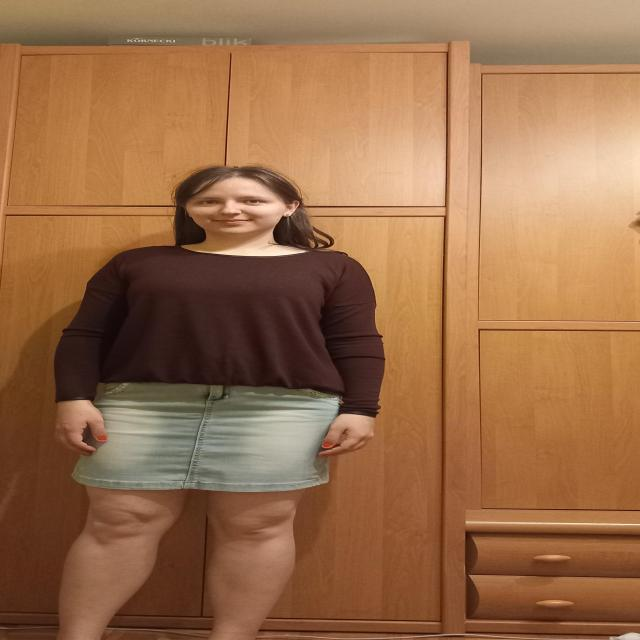Tshirt: (54, 244, 386, 418)
skirt: (70, 381, 344, 492)
